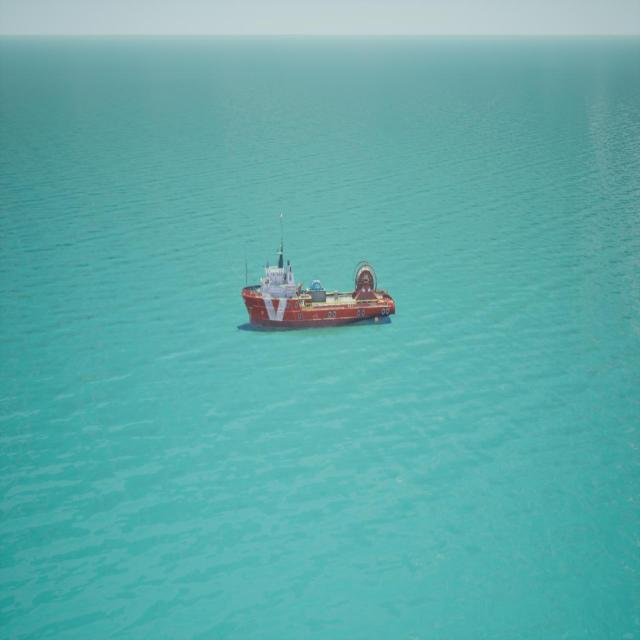tug boat: (239, 215, 397, 335)
